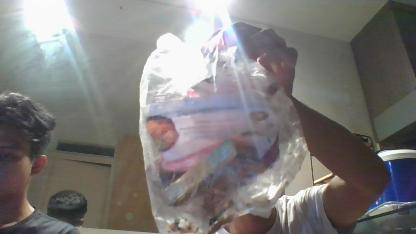Plastic Bag: (137, 13, 307, 234)
